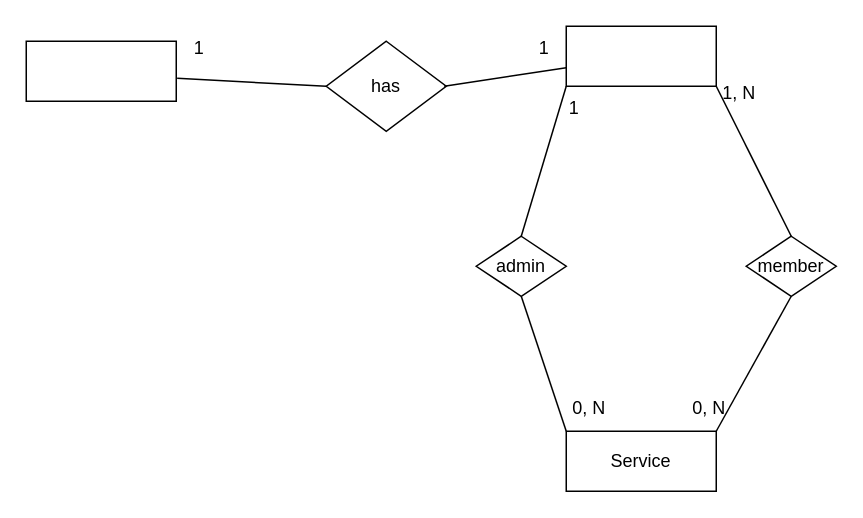
The diagram is 863 pixels wide and 518 high, and some of its shapes have lost their labels. Here are the shapes that lost their labels. From the top down, the centre of each, then its label:
At [100,70]: "CashCard".
At [640,55]: "User".
